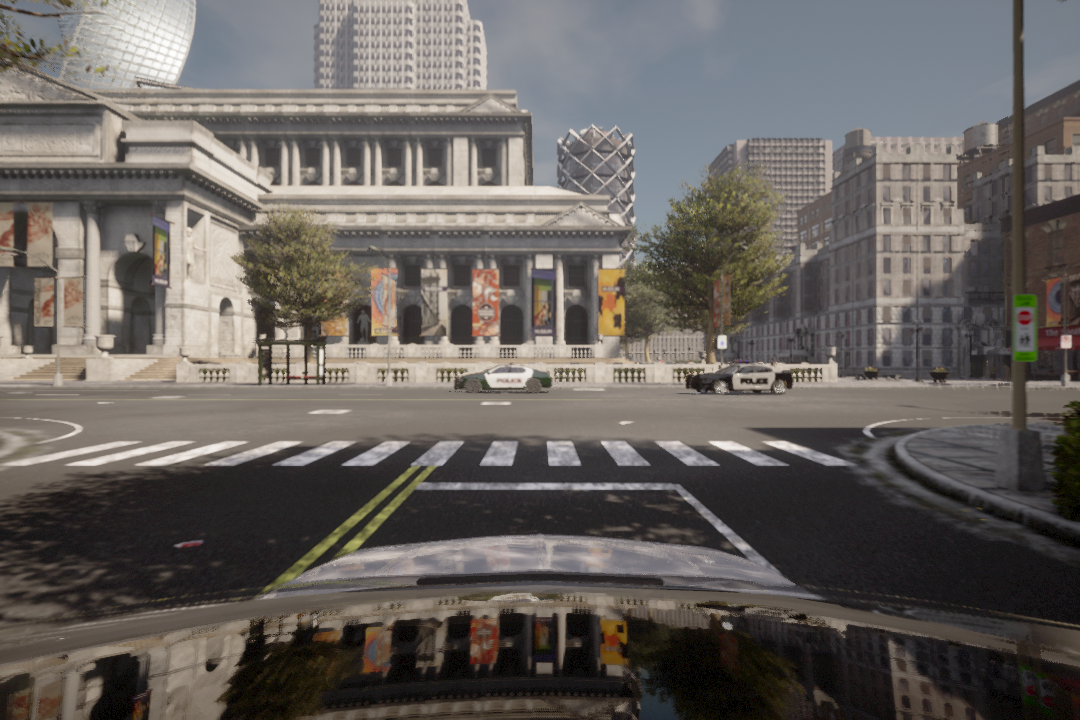walkside: (2, 427, 861, 474)
